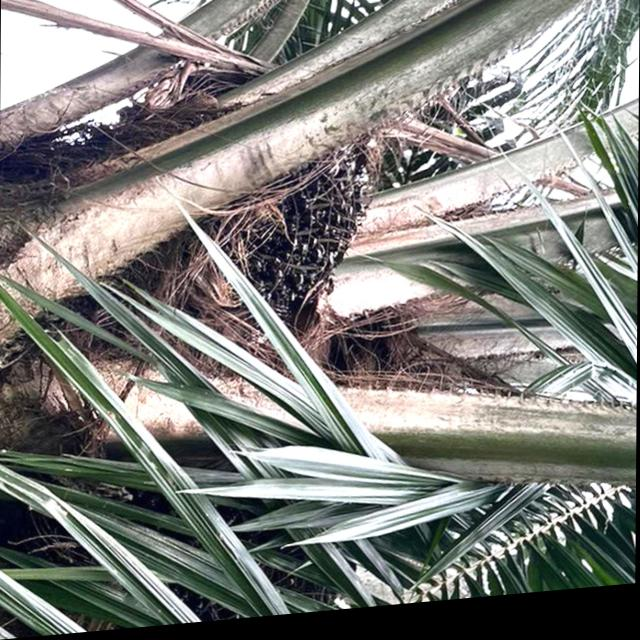unripe: (244, 150, 369, 316)
